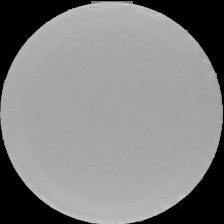0615-0591: (0, 0, 224, 224)
